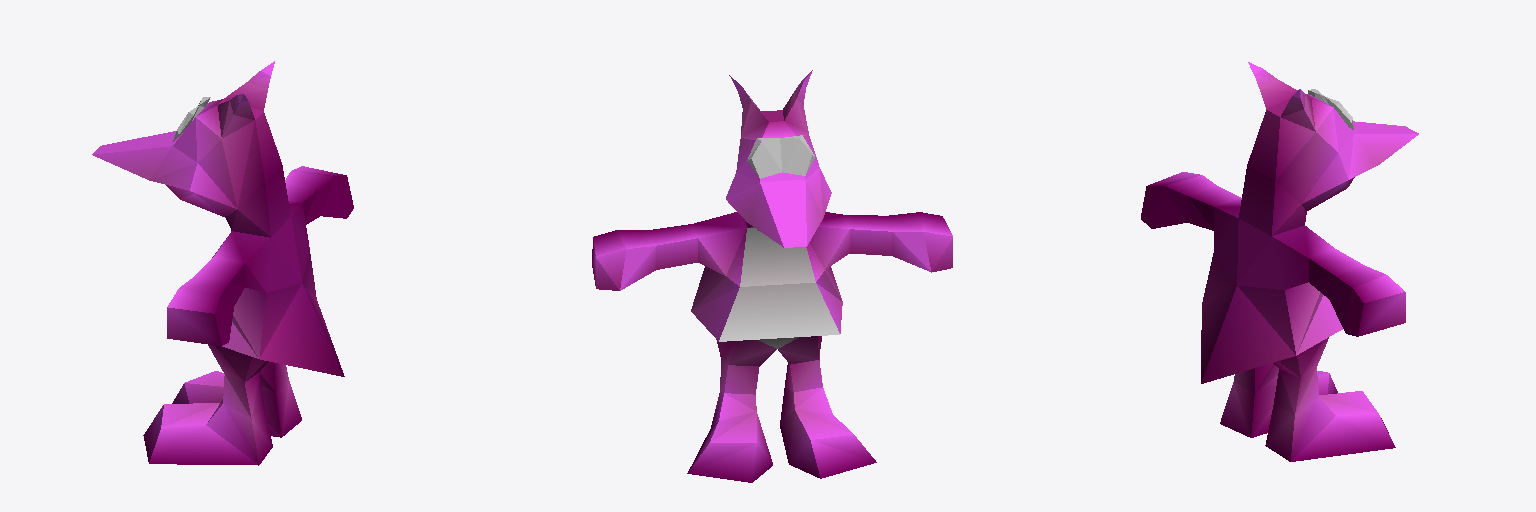
The picture shows the model from 3 angles: view 1: azimuth 30°, elevation 25°; view 2: azimuth 150°, elevation 25°; view 3: azimuth 270°, elevation 25°; orthographic projection.
Visible parts, largest first — view 1: ShapeIndexedFaceSet.000_ShapeIndexedFaceSet.167; view 2: ShapeIndexedFaceSet.000_ShapeIndexedFaceSet.167, ShapeIndexedFaceSet.009_ShapeIndexedFaceSet.168; view 3: ShapeIndexedFaceSet.000_ShapeIndexedFaceSet.167.
Part boxes in pixels (left/top/right/bottom): ShapeIndexedFaceSet.000_ShapeIndexedFaceSet.167: left=92, top=61, right=353, bottom=465; ShapeIndexedFaceSet.000_ShapeIndexedFaceSet.167: left=592, top=70, right=952, bottom=482; ShapeIndexedFaceSet.009_ShapeIndexedFaceSet.168: left=747, top=135, right=814, bottom=178; ShapeIndexedFaceSet.000_ShapeIndexedFaceSet.167: left=1141, top=62, right=1418, bottom=461.
Bounding box in the file's own units: 0.1568 × 0.1976 × 0.1382.
22 materials, 1 textured.